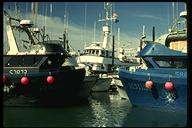ship: (1, 8, 86, 104), (123, 9, 188, 113), (74, 5, 135, 96)
water: (5, 106, 186, 124)
